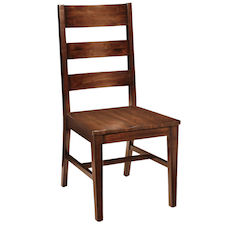chair: (44, 4, 187, 206)
